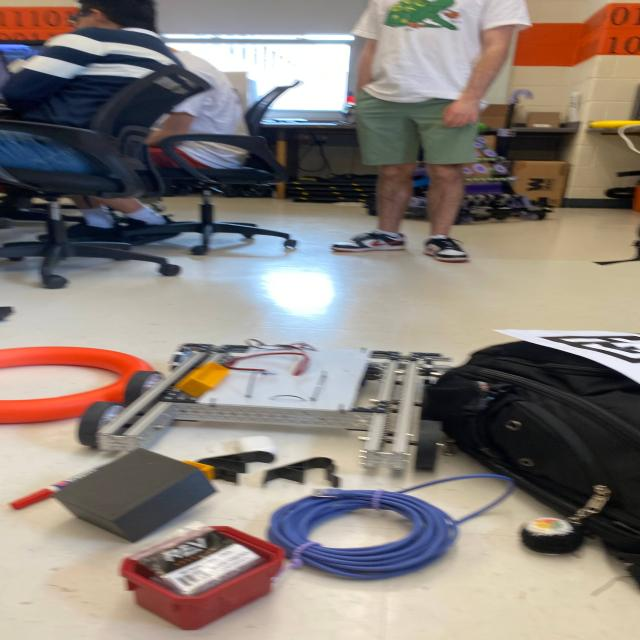yellow-specimen: (174, 362, 230, 398), (187, 462, 213, 476)
